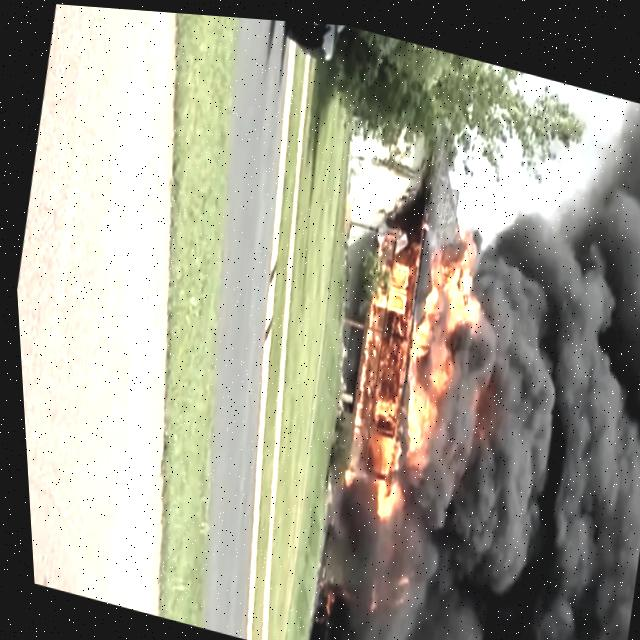Fire: (307, 187, 523, 546)
Smoke: (387, 149, 640, 640)
